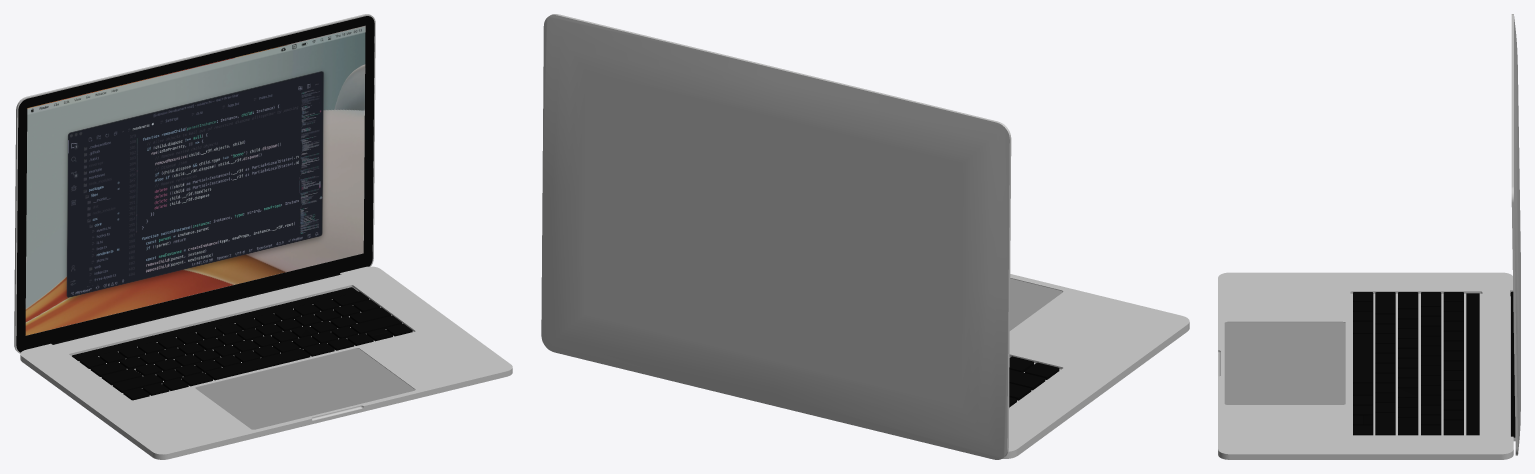
File: mac-draco-opt.glb
3 views of the same model, side by side, from view 1: azimuth 30°, elevation 25°; view 2: azimuth 150°, elevation 25°; view 3: azimuth 270°, elevation 25° (orthographic). The views are drawn at different scales.
Visible parts, largest first — view 1: screen_primitive2, screen_primitive0, keyboard, screen_primitive1, base_primitive1, touchbar; view 2: screen_primitive0, base_primitive1, keyboard; view 3: screen_primitive0, keyboard, base_primitive1, touchbar, screen_primitive1.
Part boxes in pixels (bbox=[...]): screen_primitive2: bbox=[25, 25, 365, 335]; screen_primitive0: bbox=[14, 14, 512, 459]; keyboard: bbox=[79, 291, 412, 400]; screen_primitive1: bbox=[16, 16, 374, 352]; base_primitive1: bbox=[195, 348, 414, 429]; touchbar: bbox=[72, 287, 358, 360]; screen_primitive0: bbox=[541, 14, 1189, 459]; base_primitive1: bbox=[1009, 278, 1062, 330]; keyboard: bbox=[1009, 356, 1059, 407]; screen_primitive0: bbox=[1218, 14, 1520, 459]; keyboard: bbox=[1353, 292, 1463, 435]; base_primitive1: bbox=[1224, 322, 1345, 404]; touchbar: bbox=[1466, 293, 1479, 435]; screen_primitive1: bbox=[1510, 291, 1515, 437].
Size of the model in its own units: 8.81 by 6.16 by 6.2.
6 materials, 1 textured.
